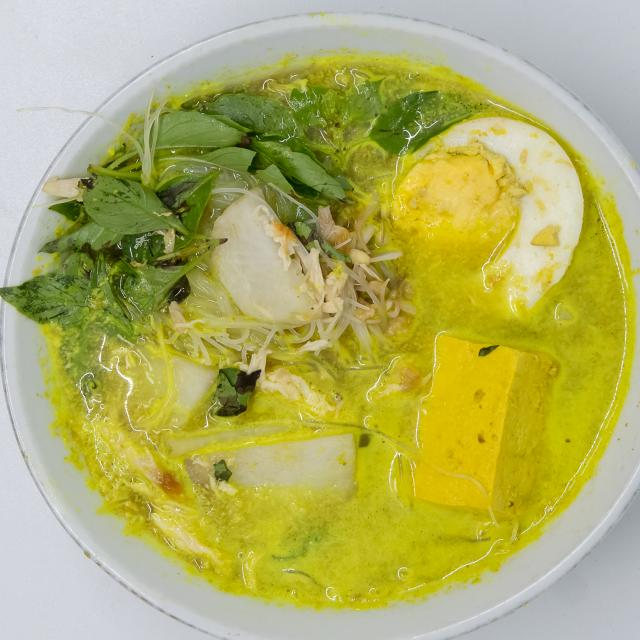Laksa-Bogor: (29, 42, 633, 608)
